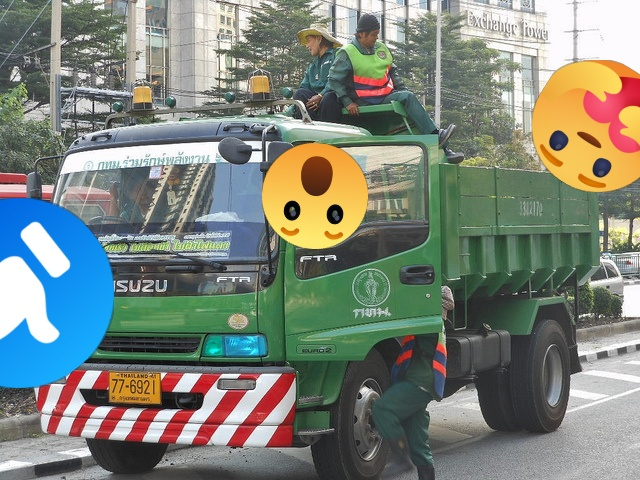care: (532, 60, 640, 192)
like: (0, 198, 114, 388)
wow: (262, 143, 368, 249)
